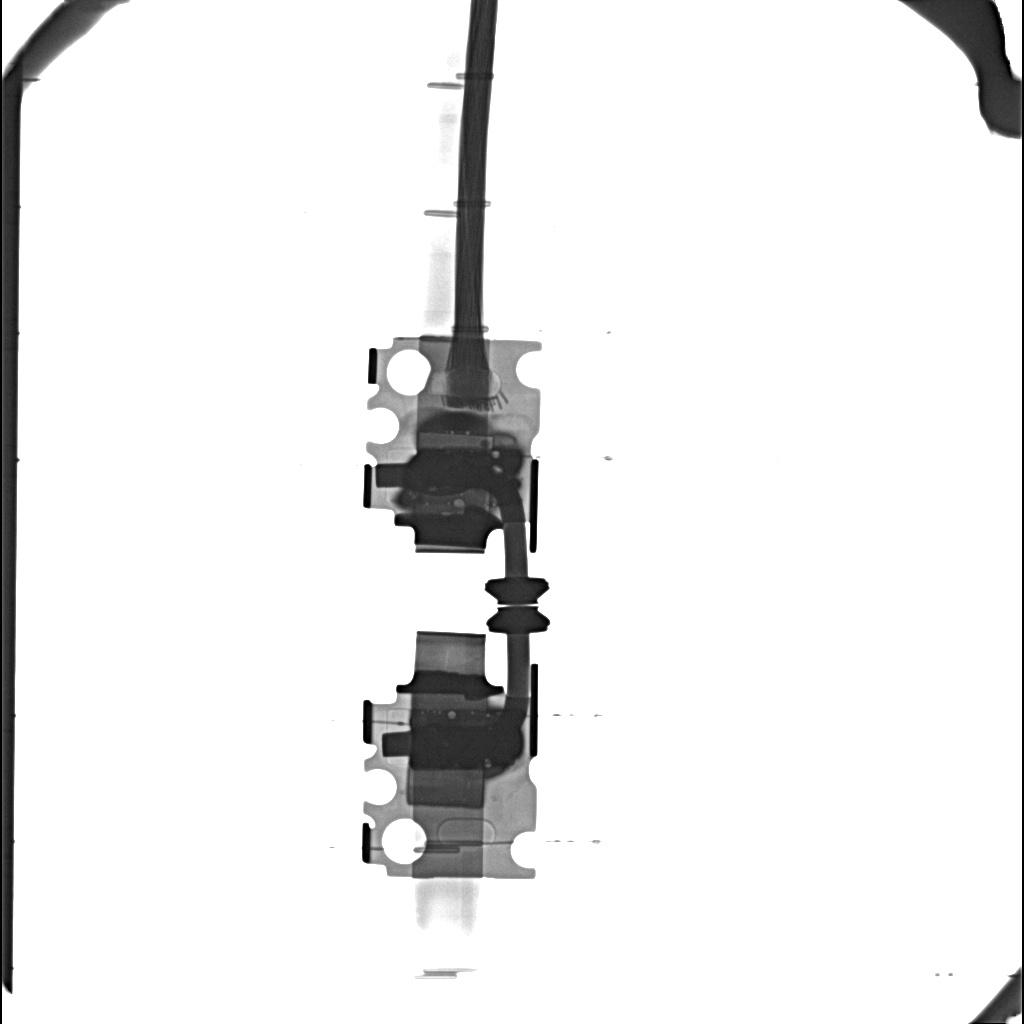defect: (411, 725, 522, 768), (406, 450, 519, 491), (406, 769, 486, 809), (416, 430, 496, 448), (454, 498, 465, 506), (448, 711, 456, 720)
